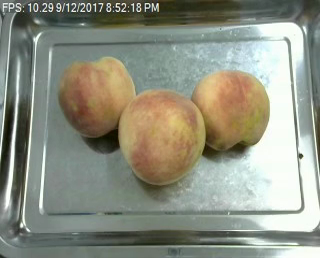Peach: (118, 87, 206, 185), (193, 69, 270, 152), (57, 57, 135, 138)
